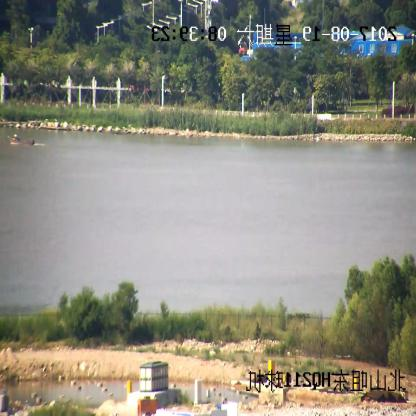Fishing Boat: (8, 133, 34, 147)
